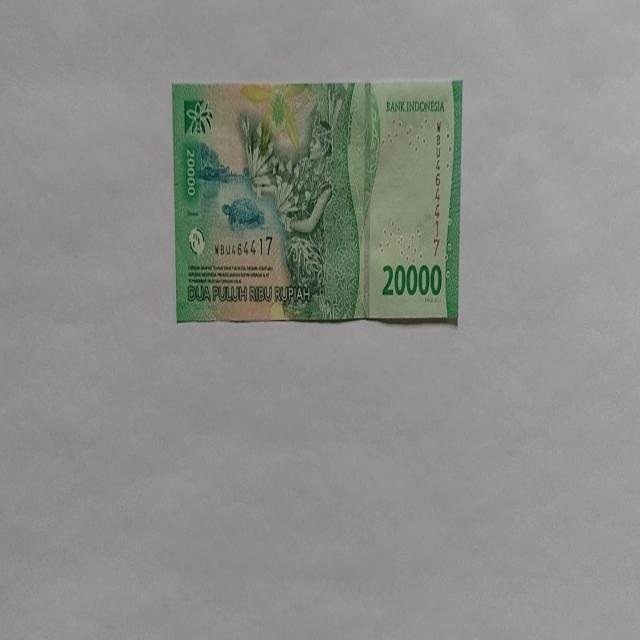dua puluh ribu rupiah: (171, 78, 463, 326)
